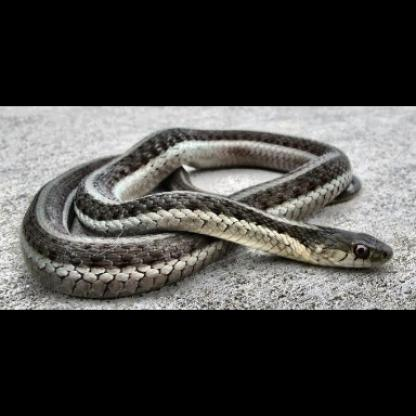Snake: (18, 126, 396, 288)
